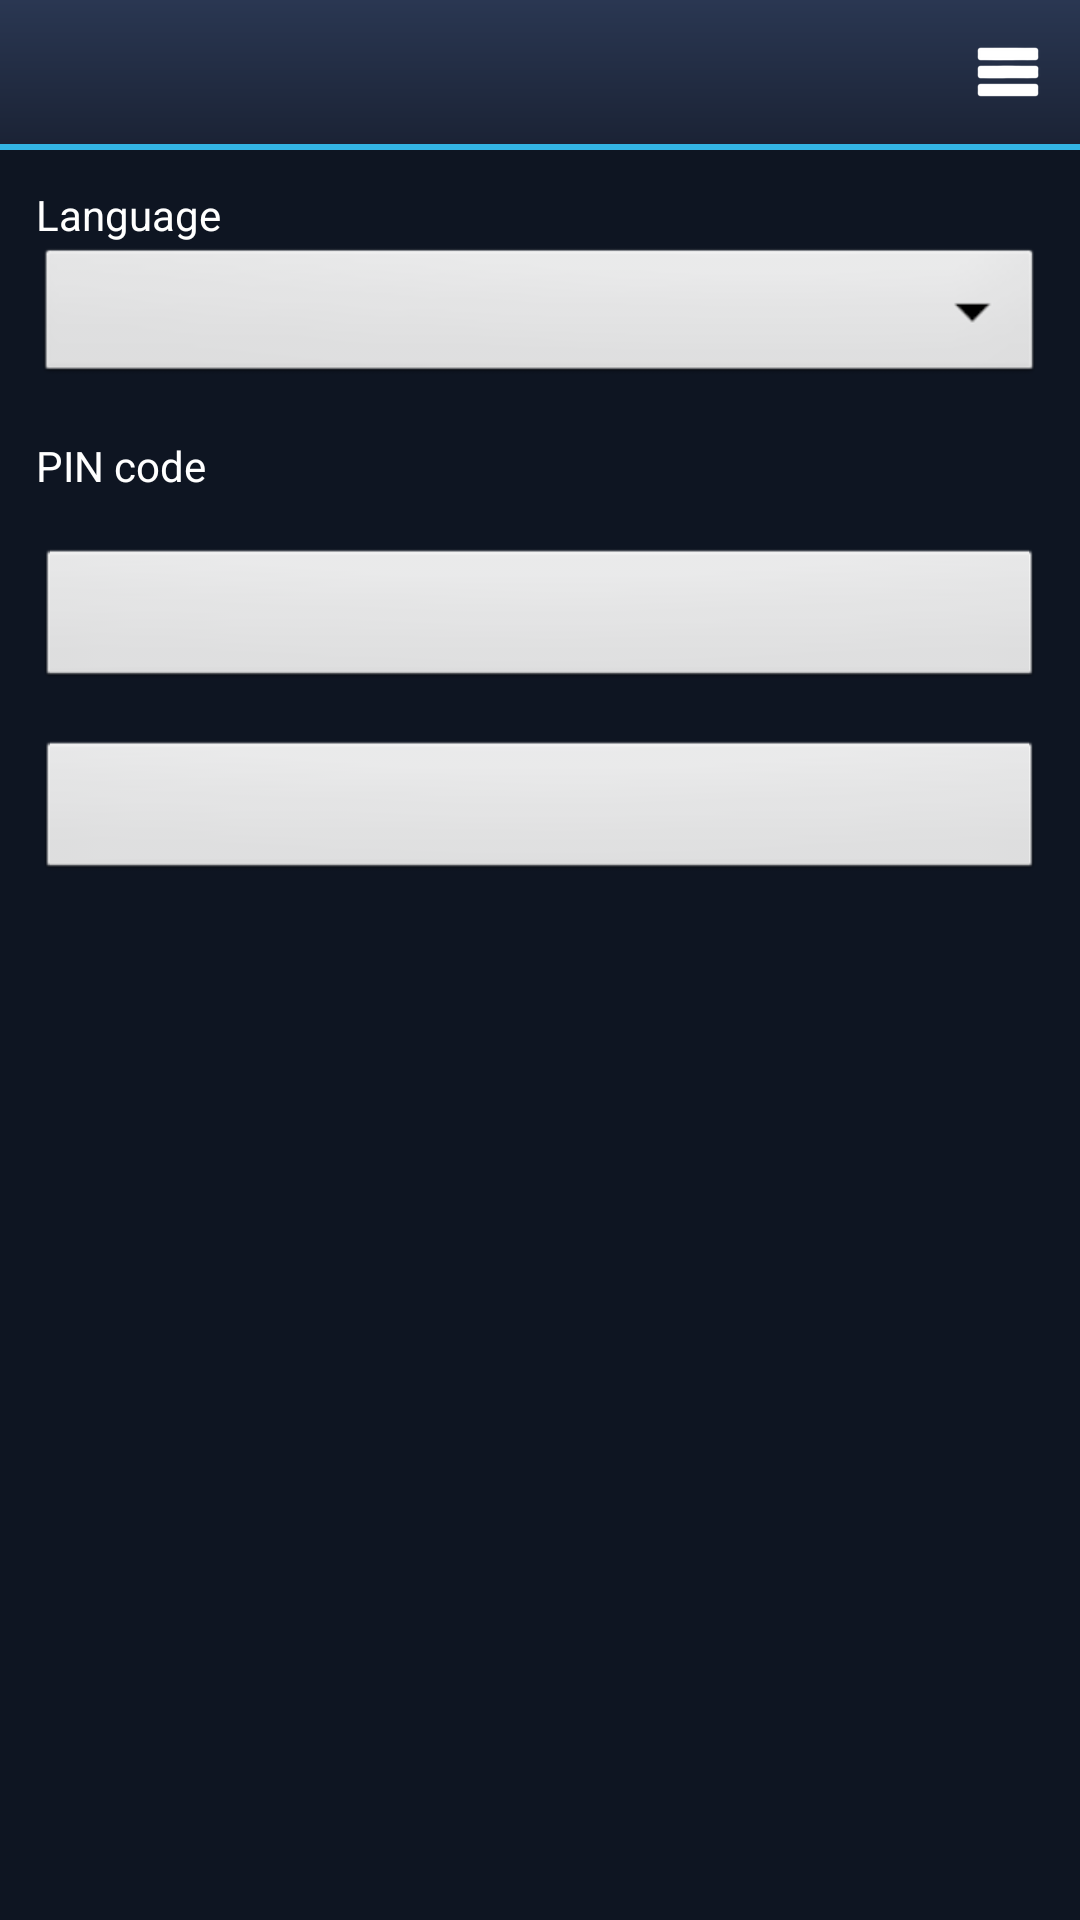

Icons on this 1080x1920 Android screen, each with the point to tap as [x,y]:
Menu: [1008,72]
